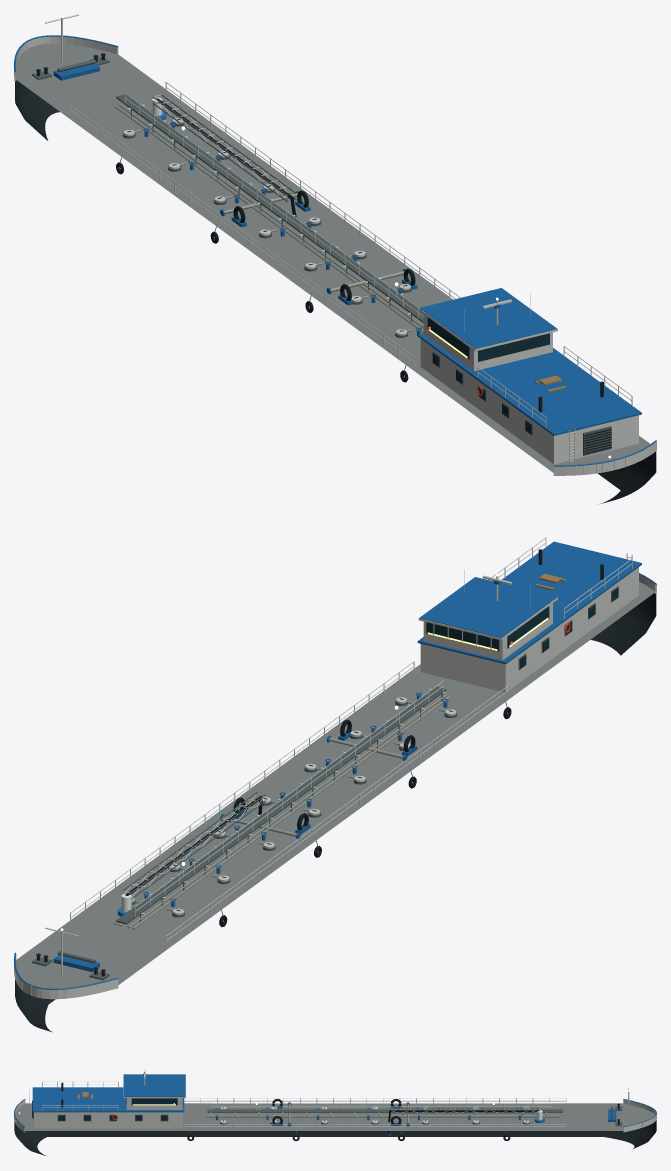
Rendered from bunkertanker-110.glb.
3 views of the same model, one above another, from view 1: azimuth 30°, elevation 25°; view 2: azimuth 150°, elevation 25°; view 3: azimuth 270°, elevation 25° (orthographic). The views are drawn at different scales.
Visible parts, largest first — view 1: batched-vessel (×2); view 2: batched-vessel (×2); view 3: batched-vessel (×2).
Part boxes in pixels (bbox=[...]): batched-vessel (×2): bbox=[14, 14, 656, 503]; batched-vessel (×2): bbox=[14, 537, 656, 1032]; batched-vessel (×2): bbox=[14, 1071, 656, 1156].
Bounding box in the file's own units: 11.36 × 14.09 × 107.
